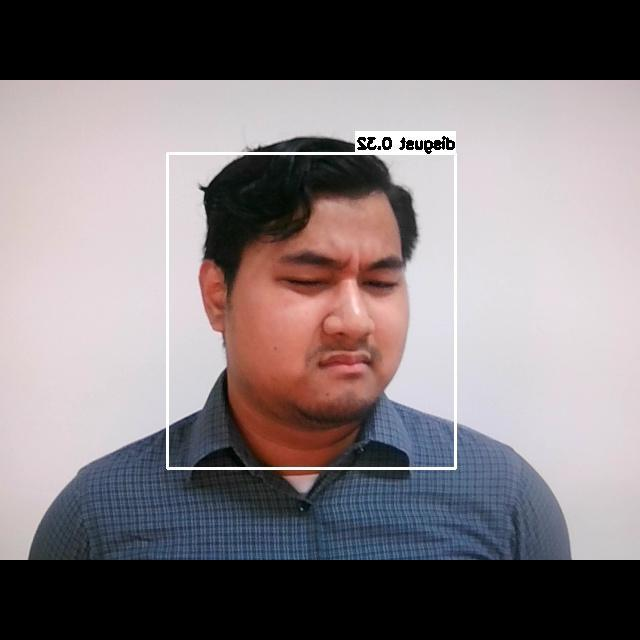Disgust: (241, 222, 427, 396)
